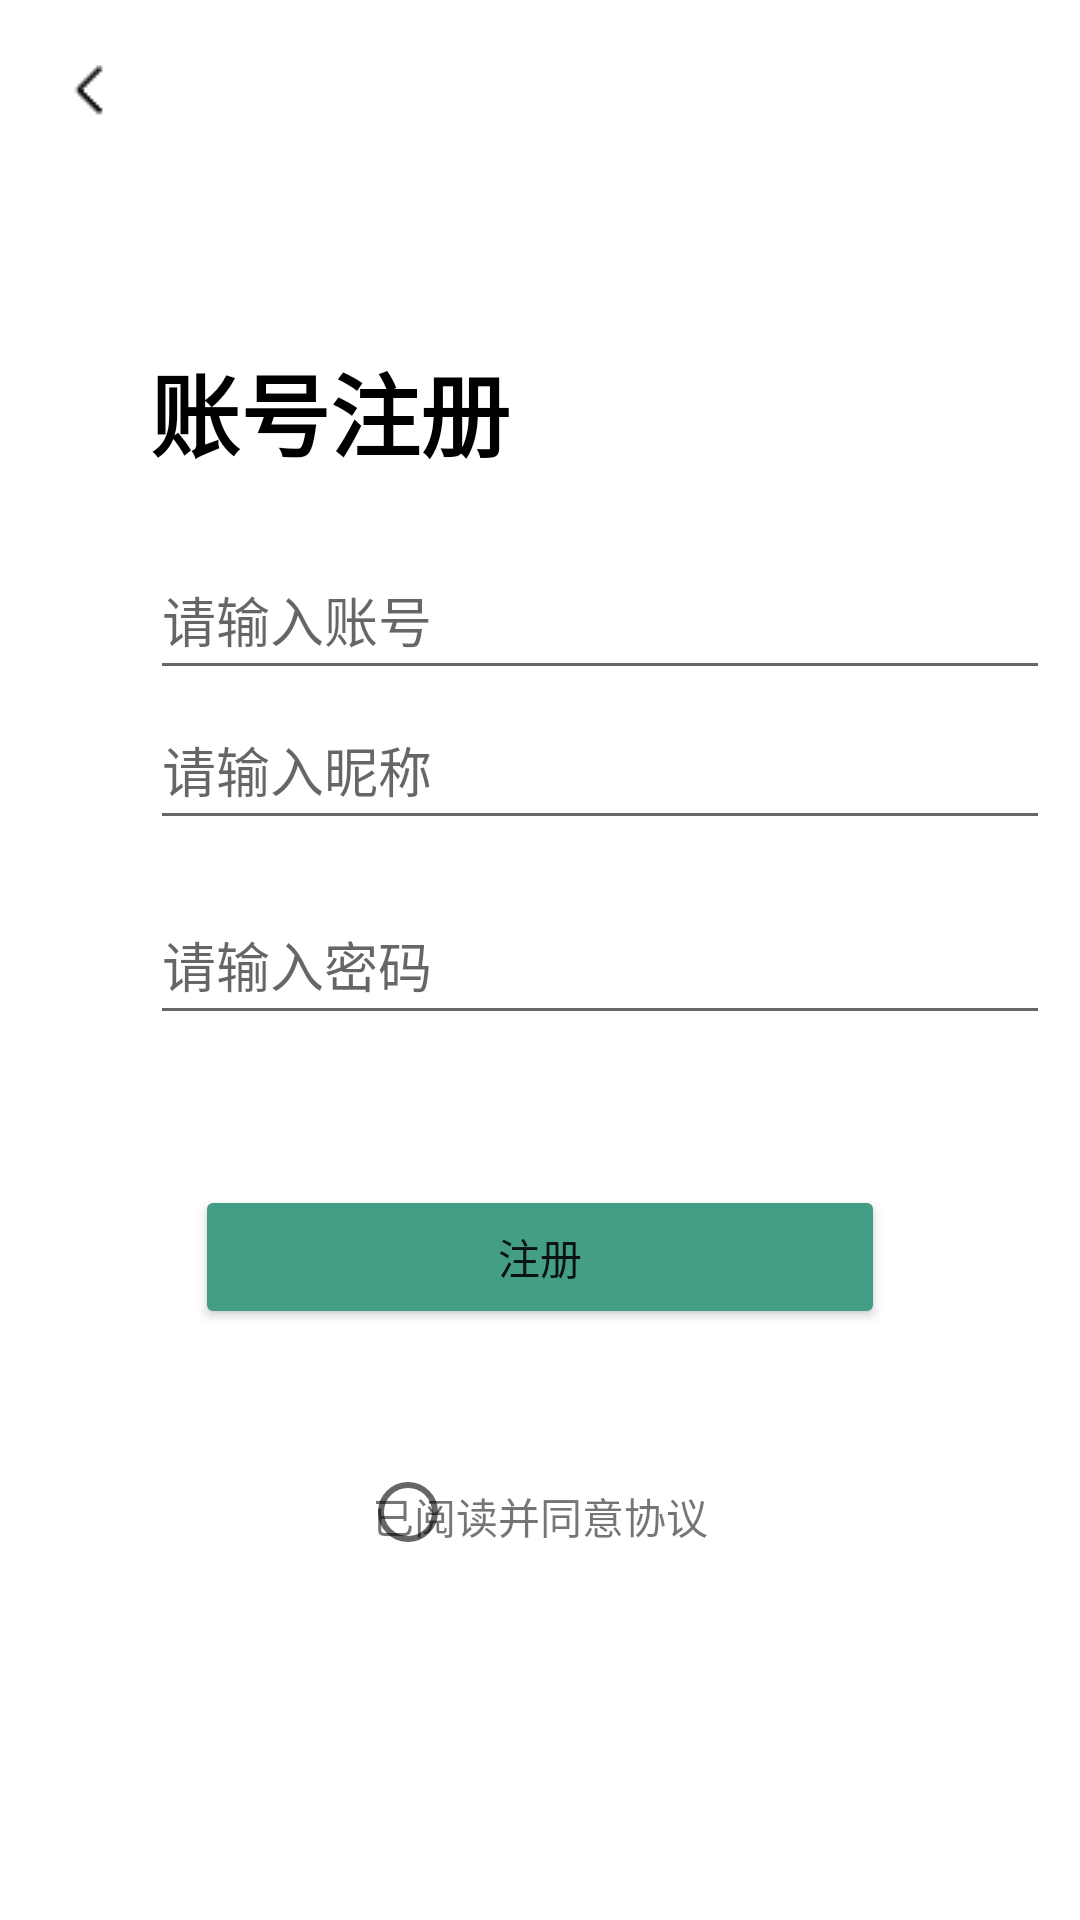

Where icons sit on this 1080px x 1920px app screen, as (x1, y1, x2, y2):
back: (75, 65, 103, 115)
